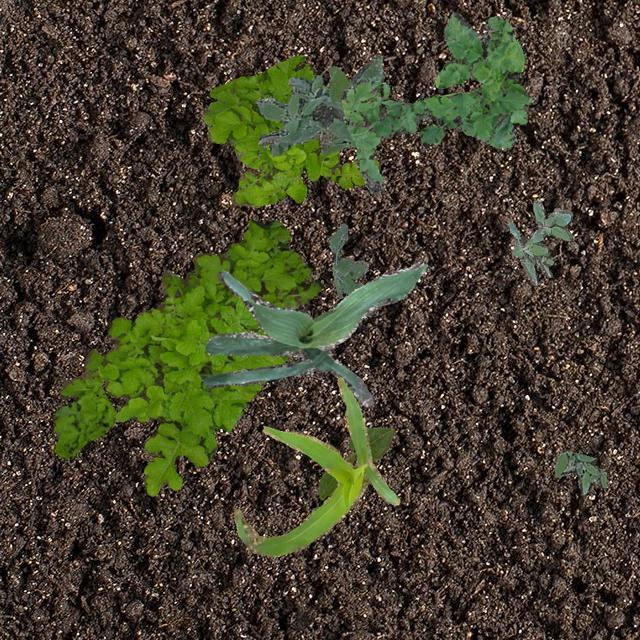crop: (200, 262, 426, 406), (232, 377, 398, 556), (316, 427, 394, 499)
weed: (51, 218, 322, 458), (102, 296, 288, 496), (339, 11, 532, 192), (202, 54, 380, 206), (255, 52, 429, 156), (507, 198, 572, 284), (328, 222, 368, 296), (554, 450, 608, 492)
